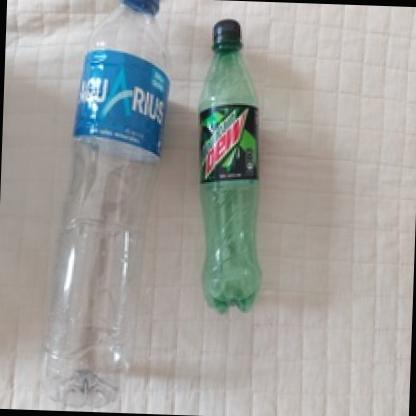plastic_bottles: (31, 0, 175, 407), (178, 12, 278, 317)
